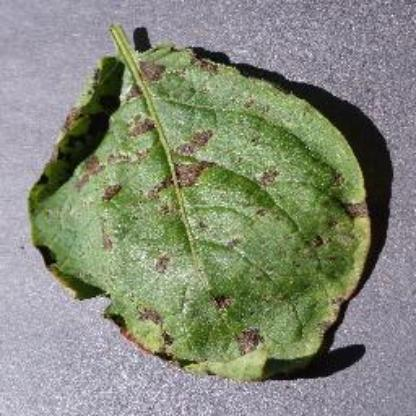Early-Blight: (28, 20, 384, 382)
